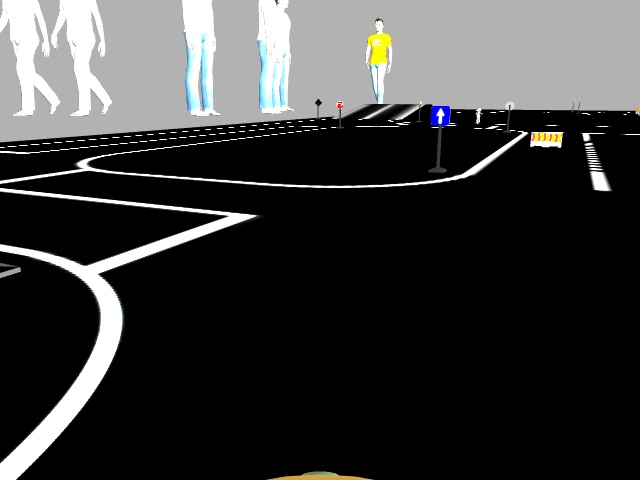ClosedRoadStand: (529, 131, 562, 145)
OneWay: (432, 107, 449, 126)
